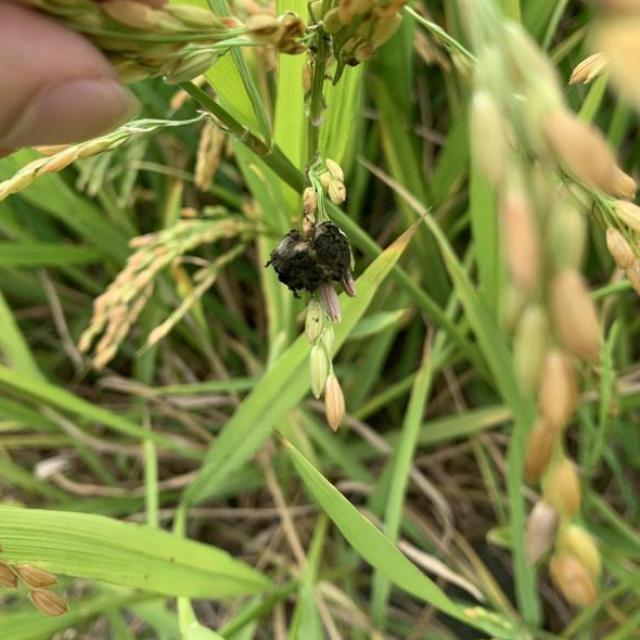Leaf_Scald: (264, 221, 354, 294)
